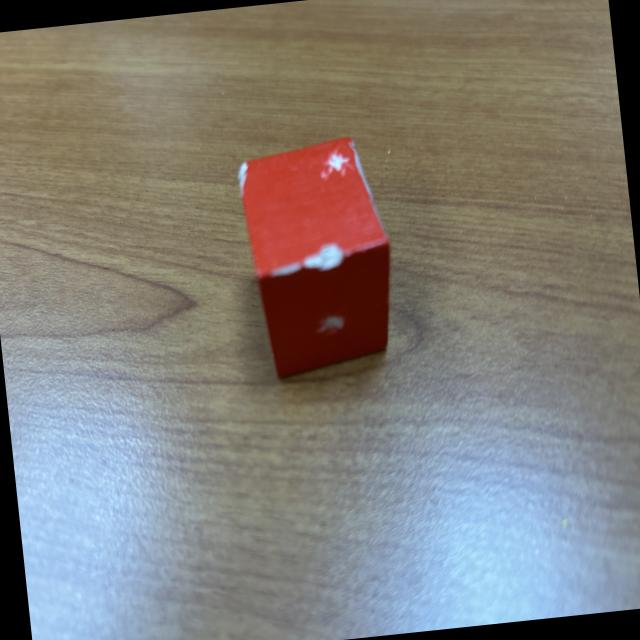broken: (233, 133, 404, 381)
